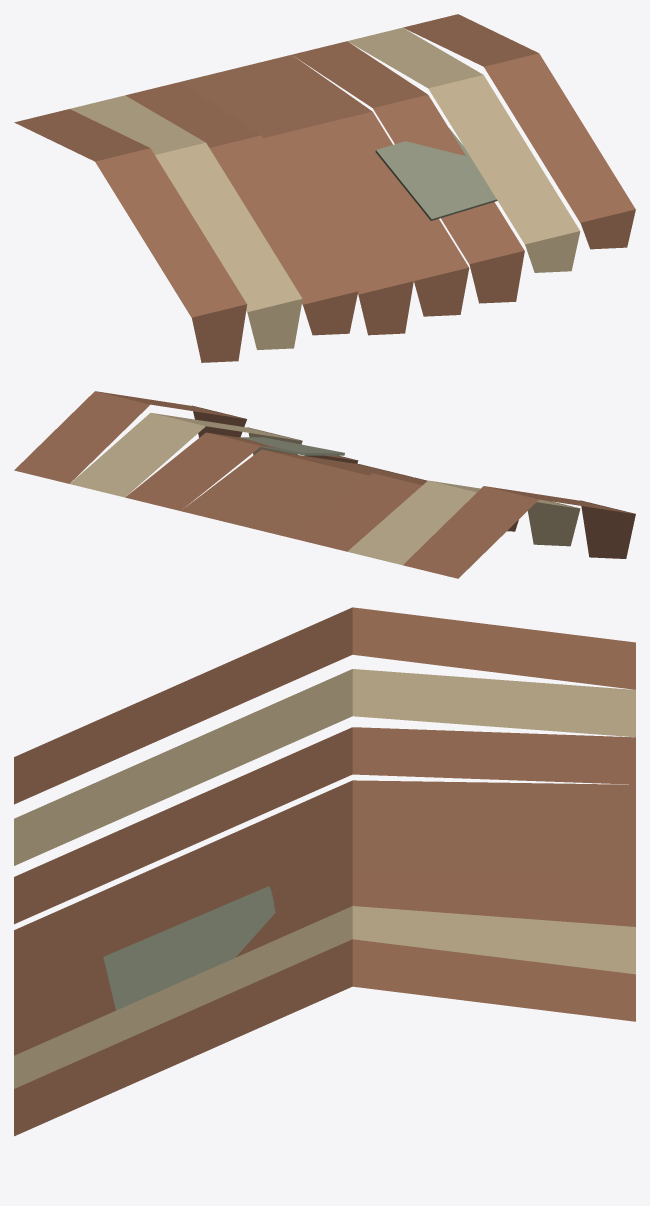
Rendered from awning_russet.glb.
The picture shows the model from 3 angles, top to bottom: view 1: azimuth 30°, elevation 25°; view 2: azimuth 150°, elevation 25°; view 3: azimuth 270°, elevation 25°; orthographic projection. The views are drawn at different scales.
Parts seen in each view (by area): view 1: sun-faded canvas.011, sun-faded canvas.014, sun-faded canvas.008, sun-faded canvas.015, sun-faded canvas.010, sun-faded canvas.012, sun-faded canvas.009, sun-faded canvas.013, stitched canvas patch.001, frayed valance.008, frayed valance.011, frayed valance.013 (+5 smaller); view 2: sun-faded canvas.015, sun-faded canvas.008, sun-faded canvas.014, sun-faded canvas.012, sun-faded canvas.009, sun-faded canvas.013, sun-faded canvas.011, sun-faded canvas.010, frayed valance.008, frayed valance.009, stitched canvas patch.001, frayed valance.015 (+1 smaller); view 3: sun-faded canvas.008, sun-faded canvas.015, sun-faded canvas.009, sun-faded canvas.010, sun-faded canvas.011, sun-faded canvas.012, sun-faded canvas.014, sun-faded canvas.013, stitched canvas patch.001.
Part boxes in pixels (box(x1,y1,x2,y2)): sun-faded canvas.011: box(181, 68, 413, 294); sun-faded canvas.014: box(347, 27, 579, 244); sun-faded canvas.008: box(14, 109, 246, 317); sun-faded canvas.015: box(403, 14, 635, 222); sun-faded canvas.010: box(125, 82, 357, 304); sun-faded canvas.012: box(236, 55, 468, 280); sun-faded canvas.009: box(70, 95, 302, 312); sun-faded canvas.013: box(292, 41, 524, 264); stitched canvas patch.001: box(375, 128, 497, 220); frayed valance.008: box(192, 304, 247, 362); frayed valance.011: box(358, 281, 413, 335); frayed valance.013: box(469, 250, 524, 303); sun-faded canvas.015: box(14, 391, 245, 483); sun-faded canvas.008: box(403, 486, 633, 578); sun-faded canvas.014: box(70, 412, 301, 497); sun-faded canvas.012: box(181, 449, 410, 524); sun-faded canvas.009: box(347, 480, 578, 565); sun-faded canvas.013: box(125, 432, 356, 510); sun-faded canvas.011: box(236, 463, 426, 537); sun-faded canvas.010: box(292, 473, 426, 551); frayed valance.008: box(580, 500, 635, 558); frayed valance.009: box(528, 501, 580, 546); stitched canvas patch.001: box(239, 437, 344, 455); frayed valance.015: box(192, 405, 246, 437); sun-faded canvas.008: box(14, 607, 635, 804); sun-faded canvas.015: box(14, 939, 635, 1136); sun-faded canvas.009: box(14, 669, 635, 865); sun-faded canvas.010: box(14, 727, 635, 924); sun-faded canvas.011: box(14, 780, 635, 977); sun-faded canvas.012: box(14, 828, 635, 1018); sun-faded canvas.014: box(14, 906, 635, 1088); sun-faded canvas.013: box(14, 869, 635, 1055); stitched canvas patch.001: box(103, 886, 275, 1010).
Bounding box in the file's own units: 1.14 × 0.3756 × 0.79.
